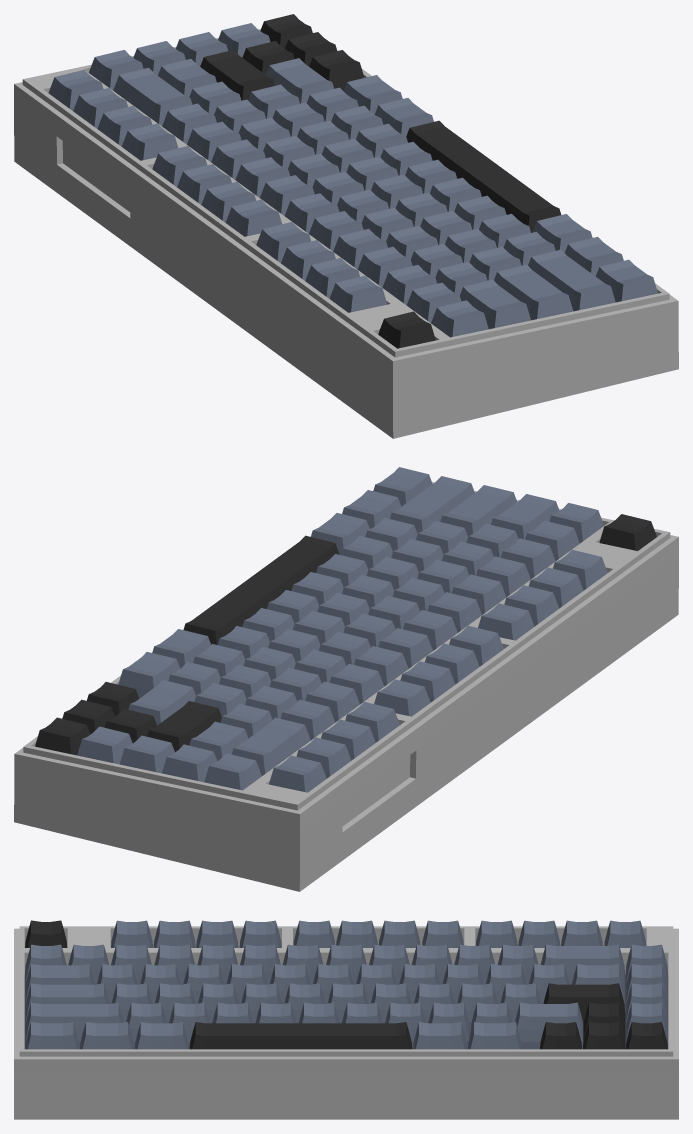
Rendered from keyboard.fbx.
The picture shows the model from 3 angles, top to bottom: view 1: azimuth 30°, elevation 25°; view 2: azimuth 150°, elevation 25°; view 3: azimuth 270°, elevation 25°; orthographic projection. The views are drawn at different scales.
Parts seen in each view (by area): view 1: Keyboard; view 2: Keyboard; view 3: Keyboard.
Boxes of the visible parts, x1,y1,x2,y2 form: Keyboard: (14,14,678,438); Keyboard: (14,467,678,891); Keyboard: (14,920,678,1119).
Bounding box in the file's own units: 180 × 57.9 × 413.
